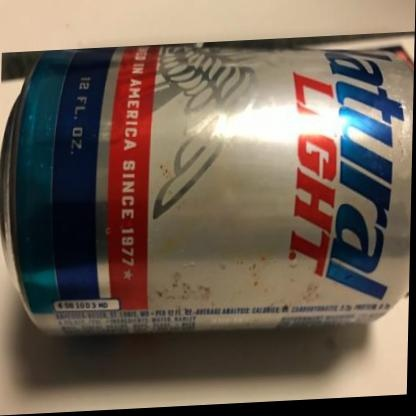trash: (1, 39, 411, 333)
